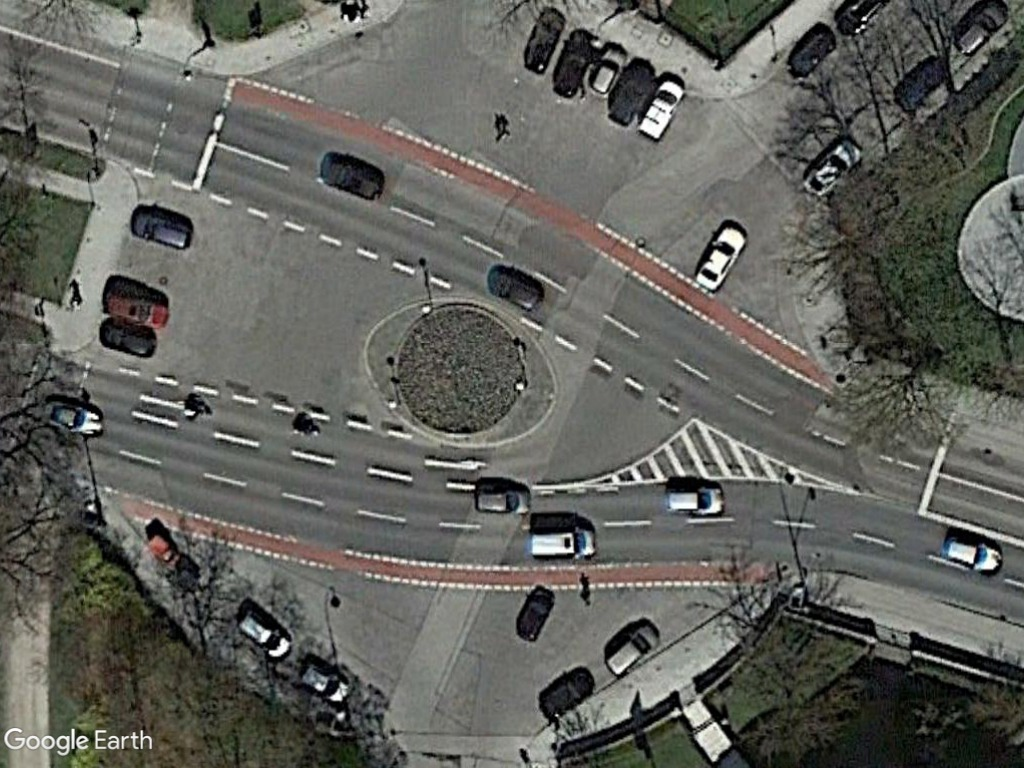car: (690, 223, 749, 295), (799, 139, 866, 201), (633, 75, 689, 143), (601, 621, 664, 679), (934, 530, 1008, 578), (235, 606, 294, 662), (127, 207, 195, 253), (104, 285, 171, 331), (525, 525, 600, 565), (39, 396, 106, 439), (585, 44, 634, 101), (661, 484, 727, 520), (471, 485, 536, 518)
